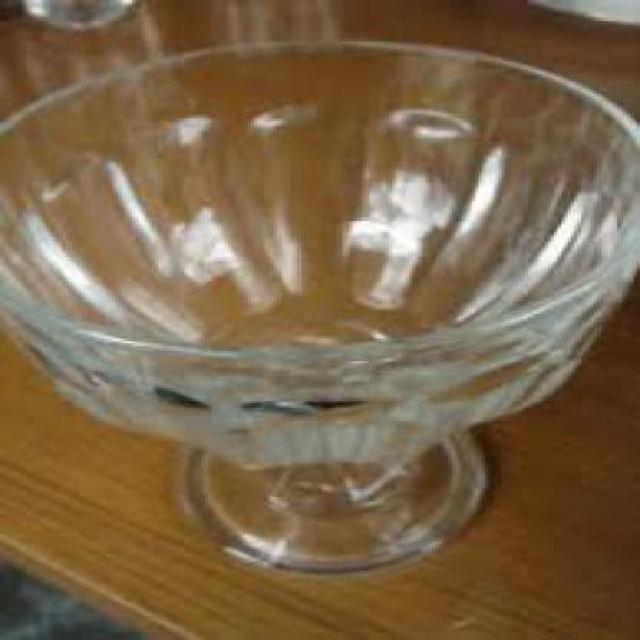kaca: (0, 40, 637, 574), (11, 0, 175, 94), (205, 0, 349, 62)
